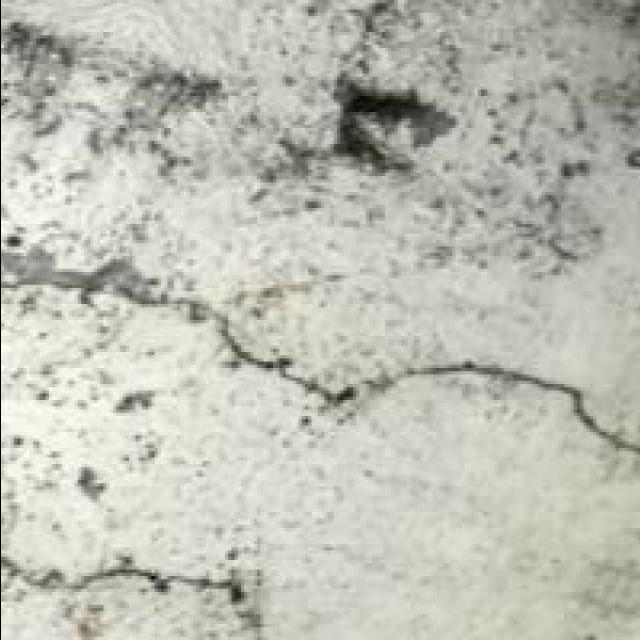SurfaceCrack: (0, 528, 276, 634)
